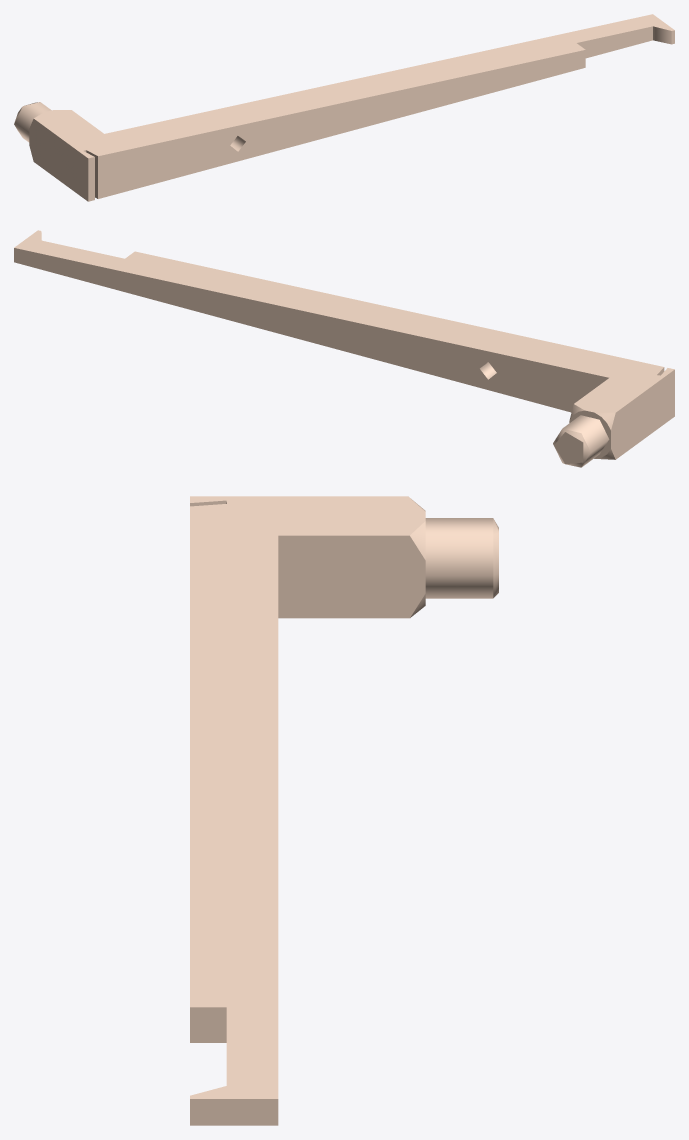
Rendered from Guide cremaillere_Quarts.obj.
3 renders of one model, top to bottom at view 1: azimuth 30°, elevation 25°; view 2: azimuth 150°, elevation 25°; view 3: azimuth 270°, elevation 25°, orthographic. The views are drawn at different scales.
Parts seen in each view (by area): view 1: Face_6, Face_4, Face_3, Face_12, Face_7, Face_10; view 2: Face_14, Face_4, Face_3, Face_7, Face_8, Face_2, Face_9; view 3: Face_4, Face_1, Face_7, Face_13, Face_11.
Part boxes in pixels (left/top/right/bottom): Face_6: left=98, top=50, right=585, bottom=198; Face_4: left=34, top=14, right=674, bottom=158; Face_3: left=29, top=119, right=88, bottom=201; Face_12: left=577, top=26, right=652, bottom=58; Face_7: left=14, top=102, right=51, bottom=142; Face_10: left=88, top=157, right=94, bottom=201; Face_14: left=14, top=248, right=608, bottom=412; Face_4: left=14, top=230, right=674, bottom=412; Face_3: left=611, top=369, right=674, bottom=459; Face_7: left=562, top=415, right=609, bottom=466; Face_8: left=554, top=432, right=583, bottom=464; Face_2: left=569, top=410, right=610, bottom=458; Face_9: left=553, top=428, right=590, bottom=467; Face_4: left=190, top=496, right=425, bottom=1098; Face_1: left=278, top=535, right=425, bottom=618; Face_7: left=425, top=518, right=493, bottom=598; Face_13: left=190, top=1099, right=278, bottom=1125; Face_11: left=190, top=1007, right=226, bottom=1042.
Size of the model in its own units: 0.092 by 0.0065 by 0.021.
